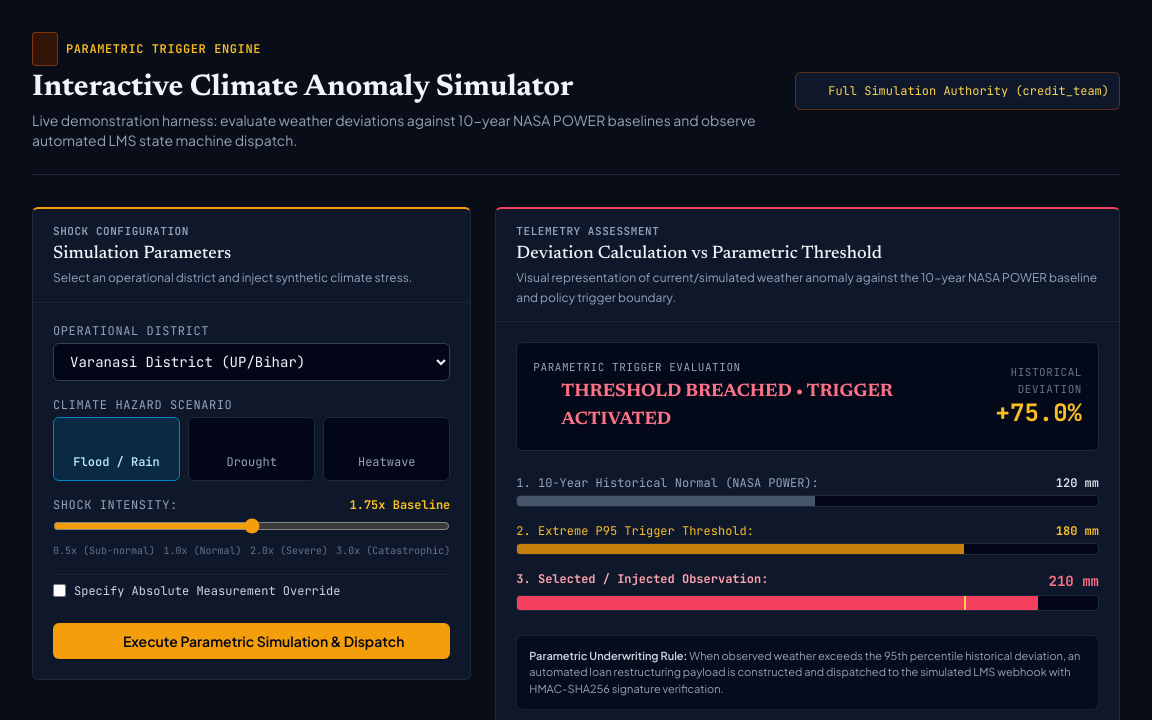
Test: TriggerSimulator View › executes parametric simulation and displays automated LMS action
Click the button "Execute Parametric Simulation & Dispatch": (252, 641) top-left (53, 623), bottom-right (450, 659)
(page scrolled)
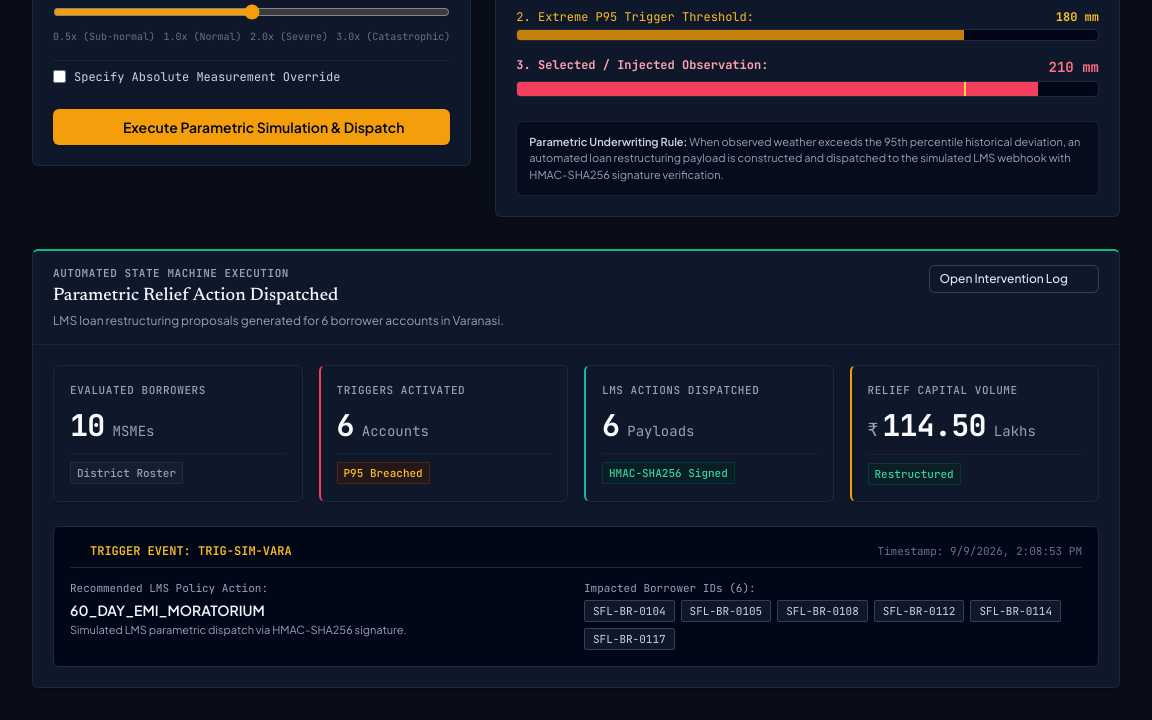
Expected: the heading "Parametric Relief Action Dispatched" is shown, top-left (53, 287), bottom-right (338, 305)
Expected: the text "LMS Actions Dispatched" is shown, top-left (602, 382), bottom-right (759, 398)
Expected: the text "Relief Capital Volume" is shown, top-left (868, 382), bottom-right (1018, 398)
